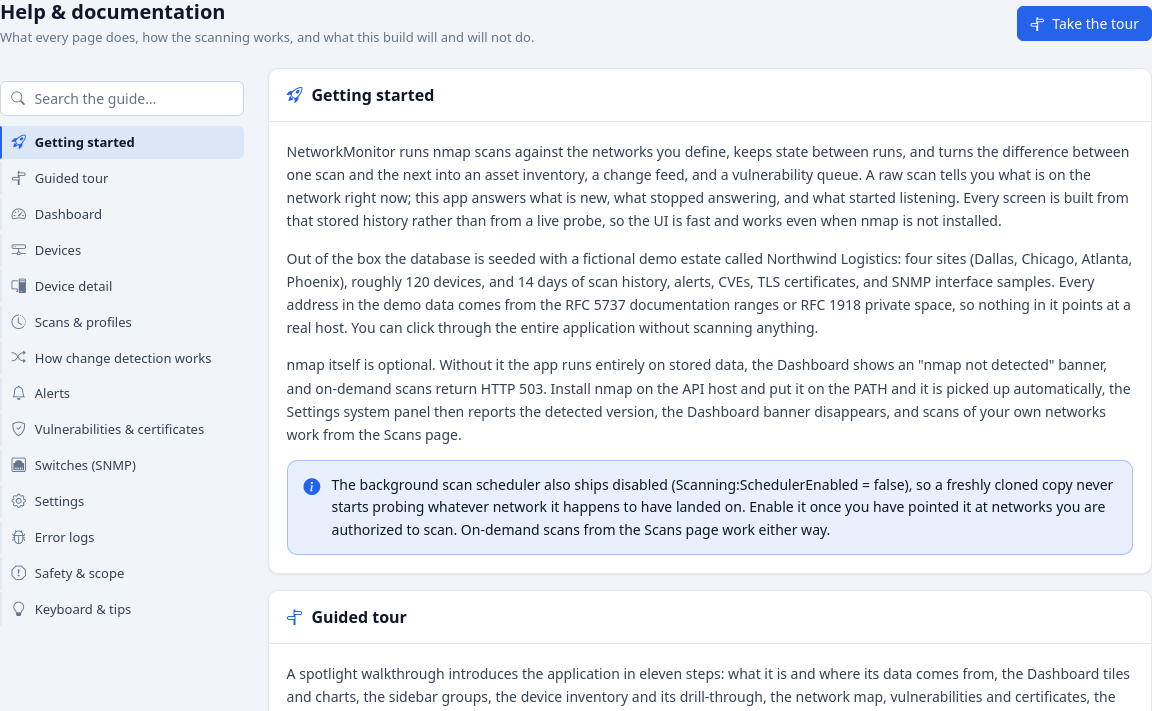
it: HelpGuide › shows an empty state for a query that matches nothing
This screenshot has width=1152, height=711.
Type "zzzznotathing" into the search field with test id "help-search" at [122, 98], box [0,80,244,115]
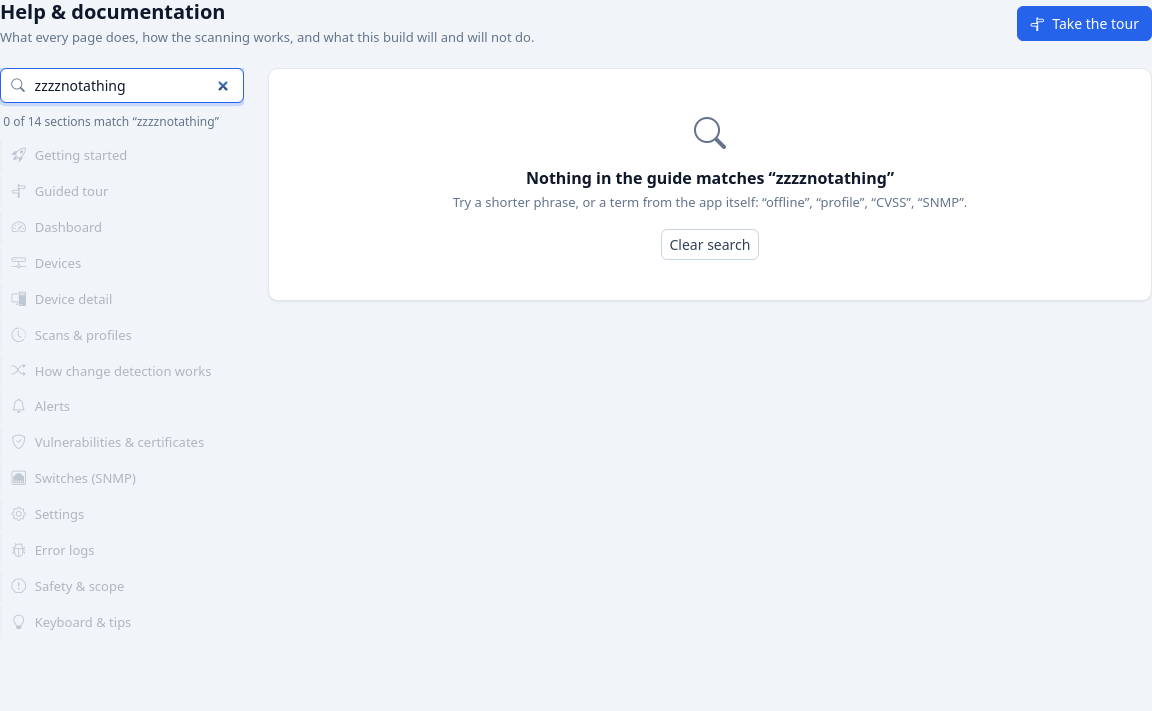
Result: the element with test id "help-empty" is shown at [269,68,1151,300]
